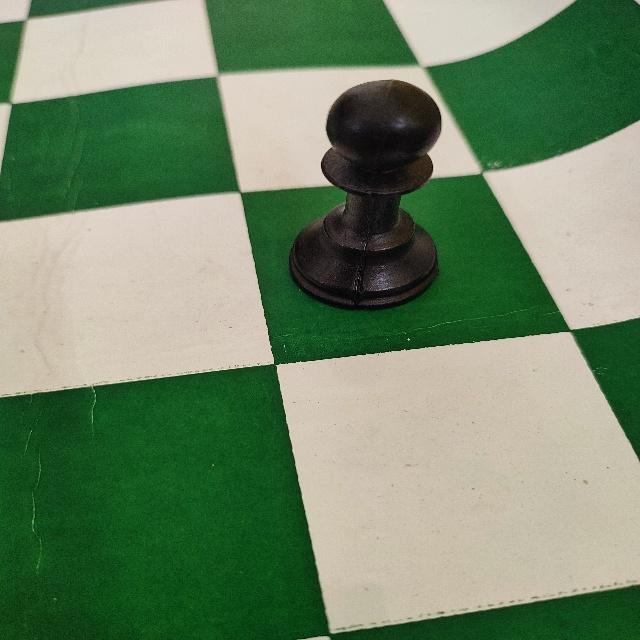Pawn: (283, 77, 442, 313)
